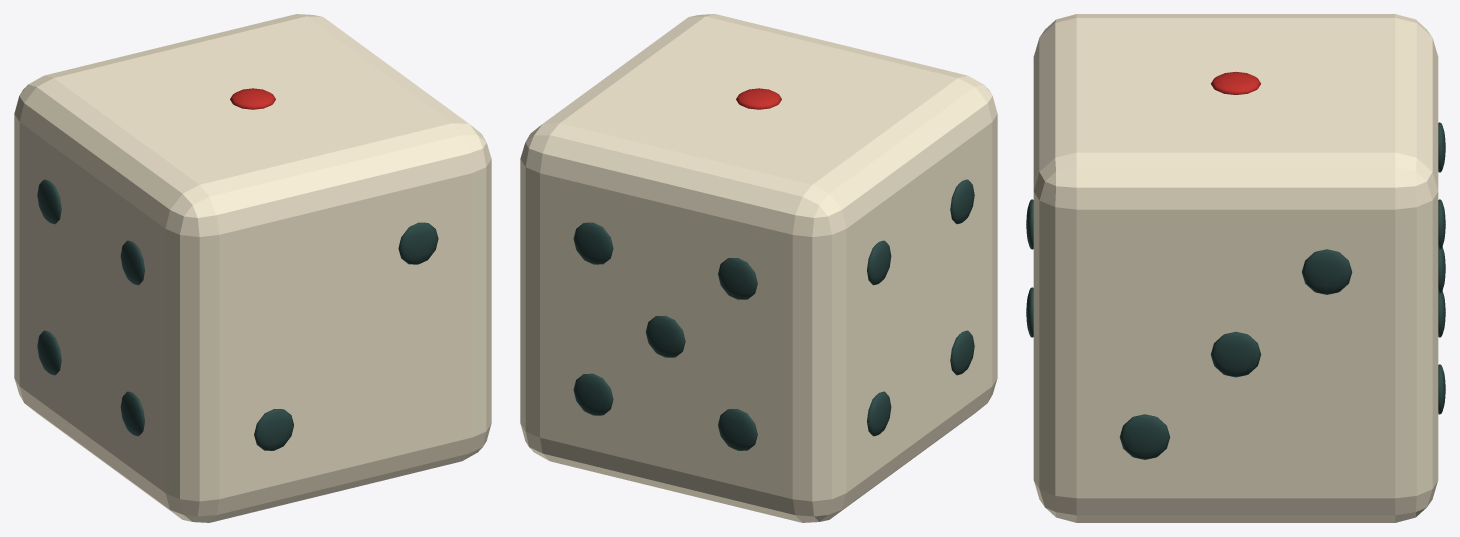
The model's file is prop-dice.glb.
3 renders of one model, left to right at view 1: azimuth 30°, elevation 25°; view 2: azimuth 150°, elevation 25°; view 3: azimuth 270°, elevation 25°, orthographic. The views are drawn at different scales.
Parts seen in each view (by area): view 1: prop-dice; view 2: prop-dice; view 3: prop-dice.
Boxes of the visible parts, box(x1,y1,x2,y2) form: prop-dice: box(14, 14, 491, 522); prop-dice: box(520, 14, 997, 522); prop-dice: box(1026, 14, 1445, 522).
Size of the model in its own units: 0.83 by 0.83 by 0.83.
